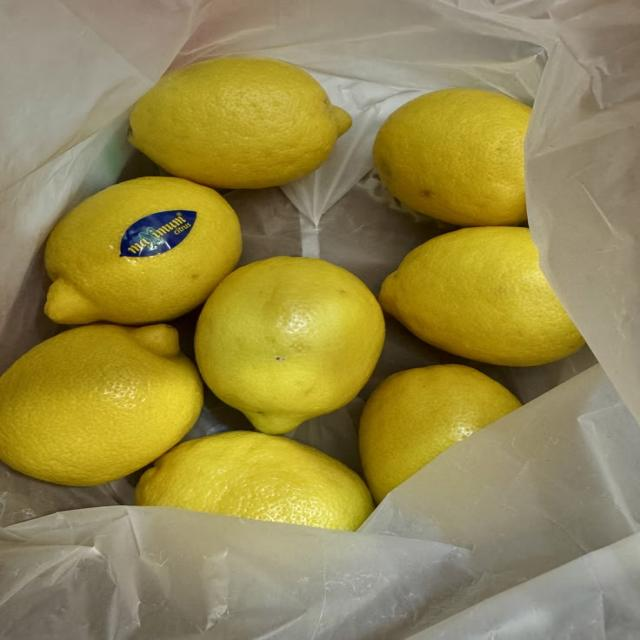lemon: (195, 257, 384, 433), (0, 325, 202, 485), (129, 58, 351, 188), (45, 177, 241, 324), (380, 227, 583, 365), (136, 432, 373, 530), (360, 365, 520, 501), (374, 89, 531, 226)
